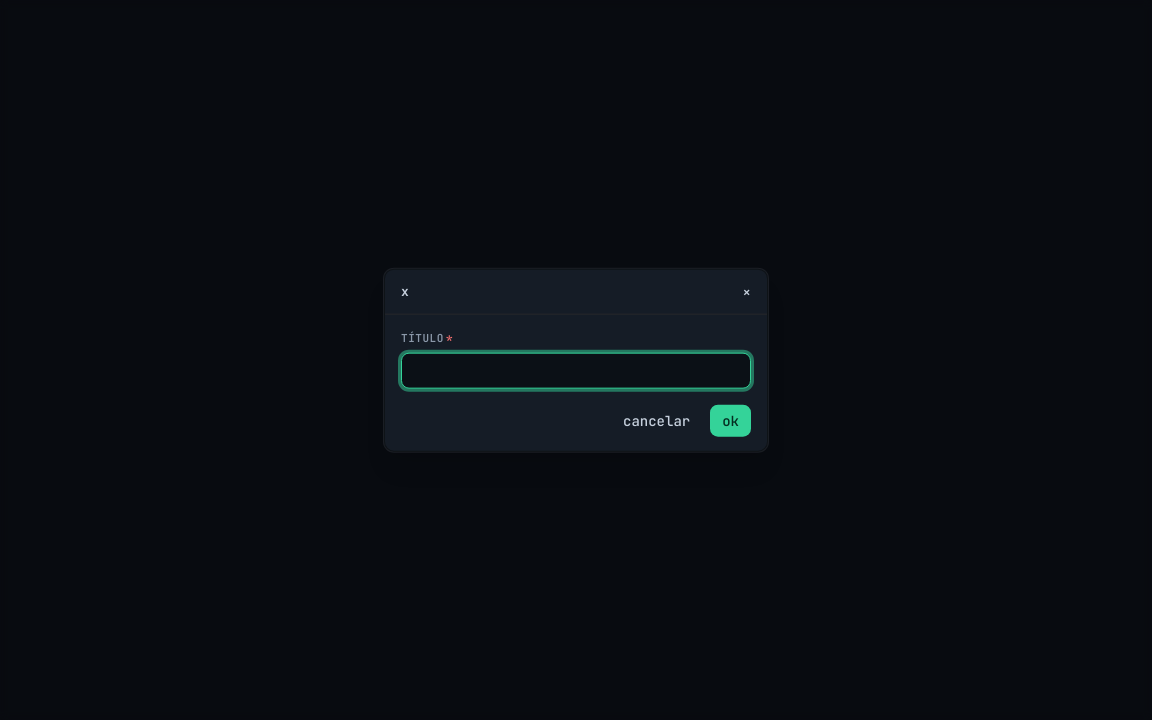
Test: Modal › bloqueia submit com required vazio e mostra erro inline
Click the button "ok" at (731, 420), box [710, 404, 751, 436]
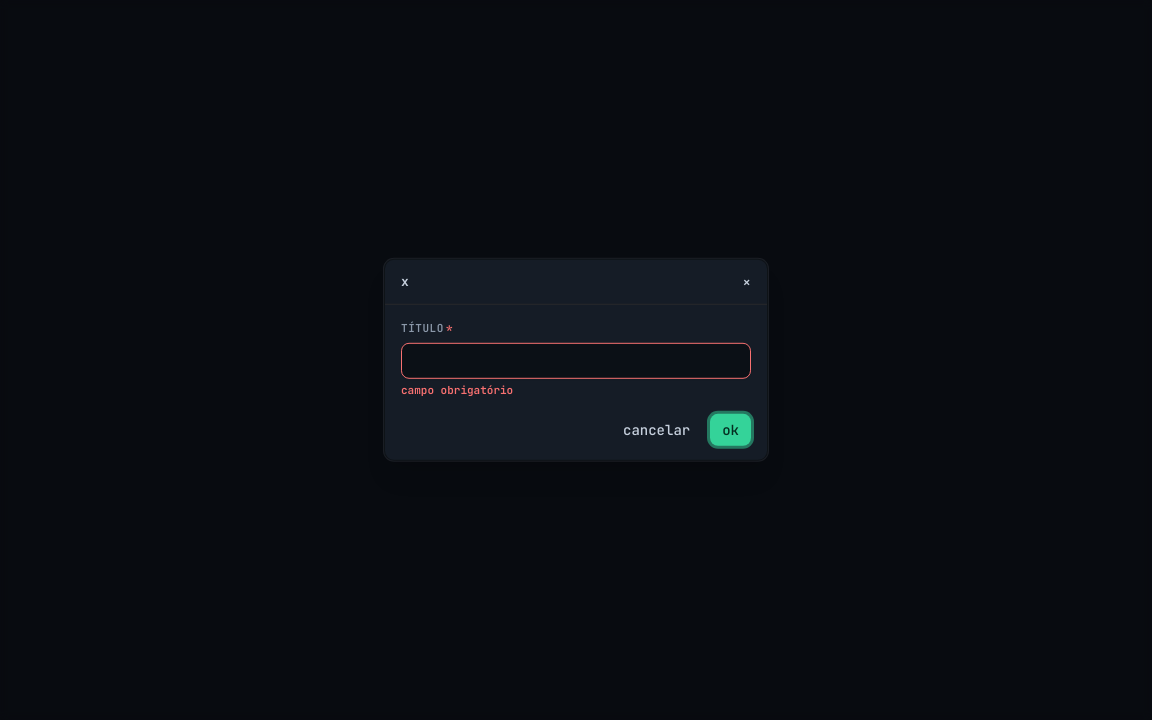
Expected: the dialog "x" is shown, [384, 259, 768, 461]
Now the text "campo obrigatório" is shown, box [401, 382, 513, 396]
